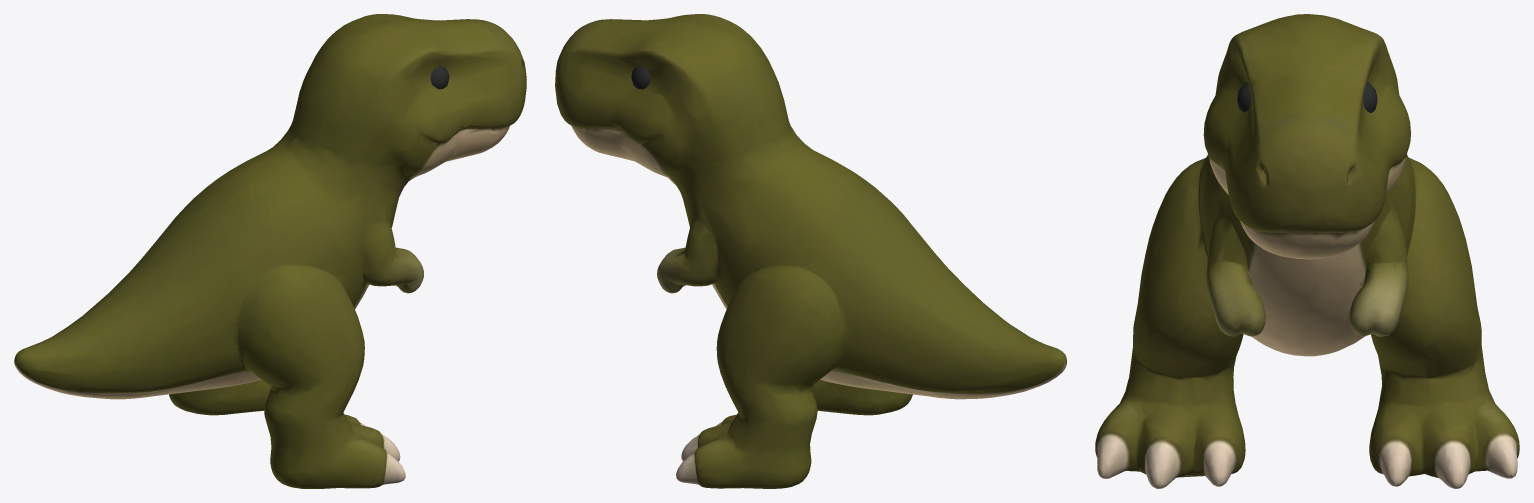
Rendered from meshy_rex.glb.
3 views of the same model, side by side, from view 1: azimuth 30°, elevation 25°; view 2: azimuth 150°, elevation 25°; view 3: azimuth 270°, elevation 25° (orthographic). The views are drawn at different scales.
Visible parts, largest first — view 1: body; view 2: body; view 3: body, eye.
Part boxes in pixels (x1,y1,x2,y2): body: (14, 14, 526, 488); body: (555, 14, 1066, 488); body: (1095, 14, 1519, 488); eye: (1237, 82, 1377, 112).
Size of the model in its own units: 3.59 by 2.62 by 2.03.
Materials: 2 (1 with a texture image).
